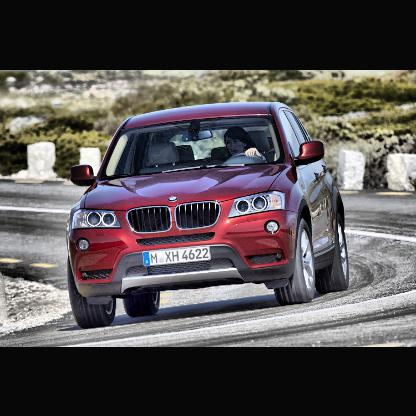BMW X3 SUV 2012: (64, 100, 352, 330)
